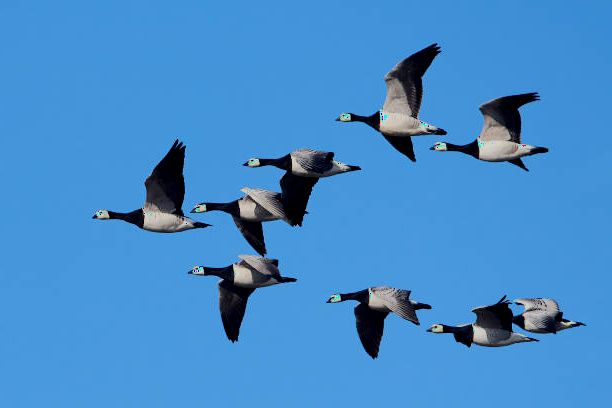Bird: (331, 36, 448, 161), (91, 134, 212, 236), (184, 251, 299, 343), (430, 88, 549, 174), (188, 183, 317, 257), (324, 280, 432, 358), (427, 289, 538, 352), (242, 148, 365, 194), (491, 292, 592, 336)
